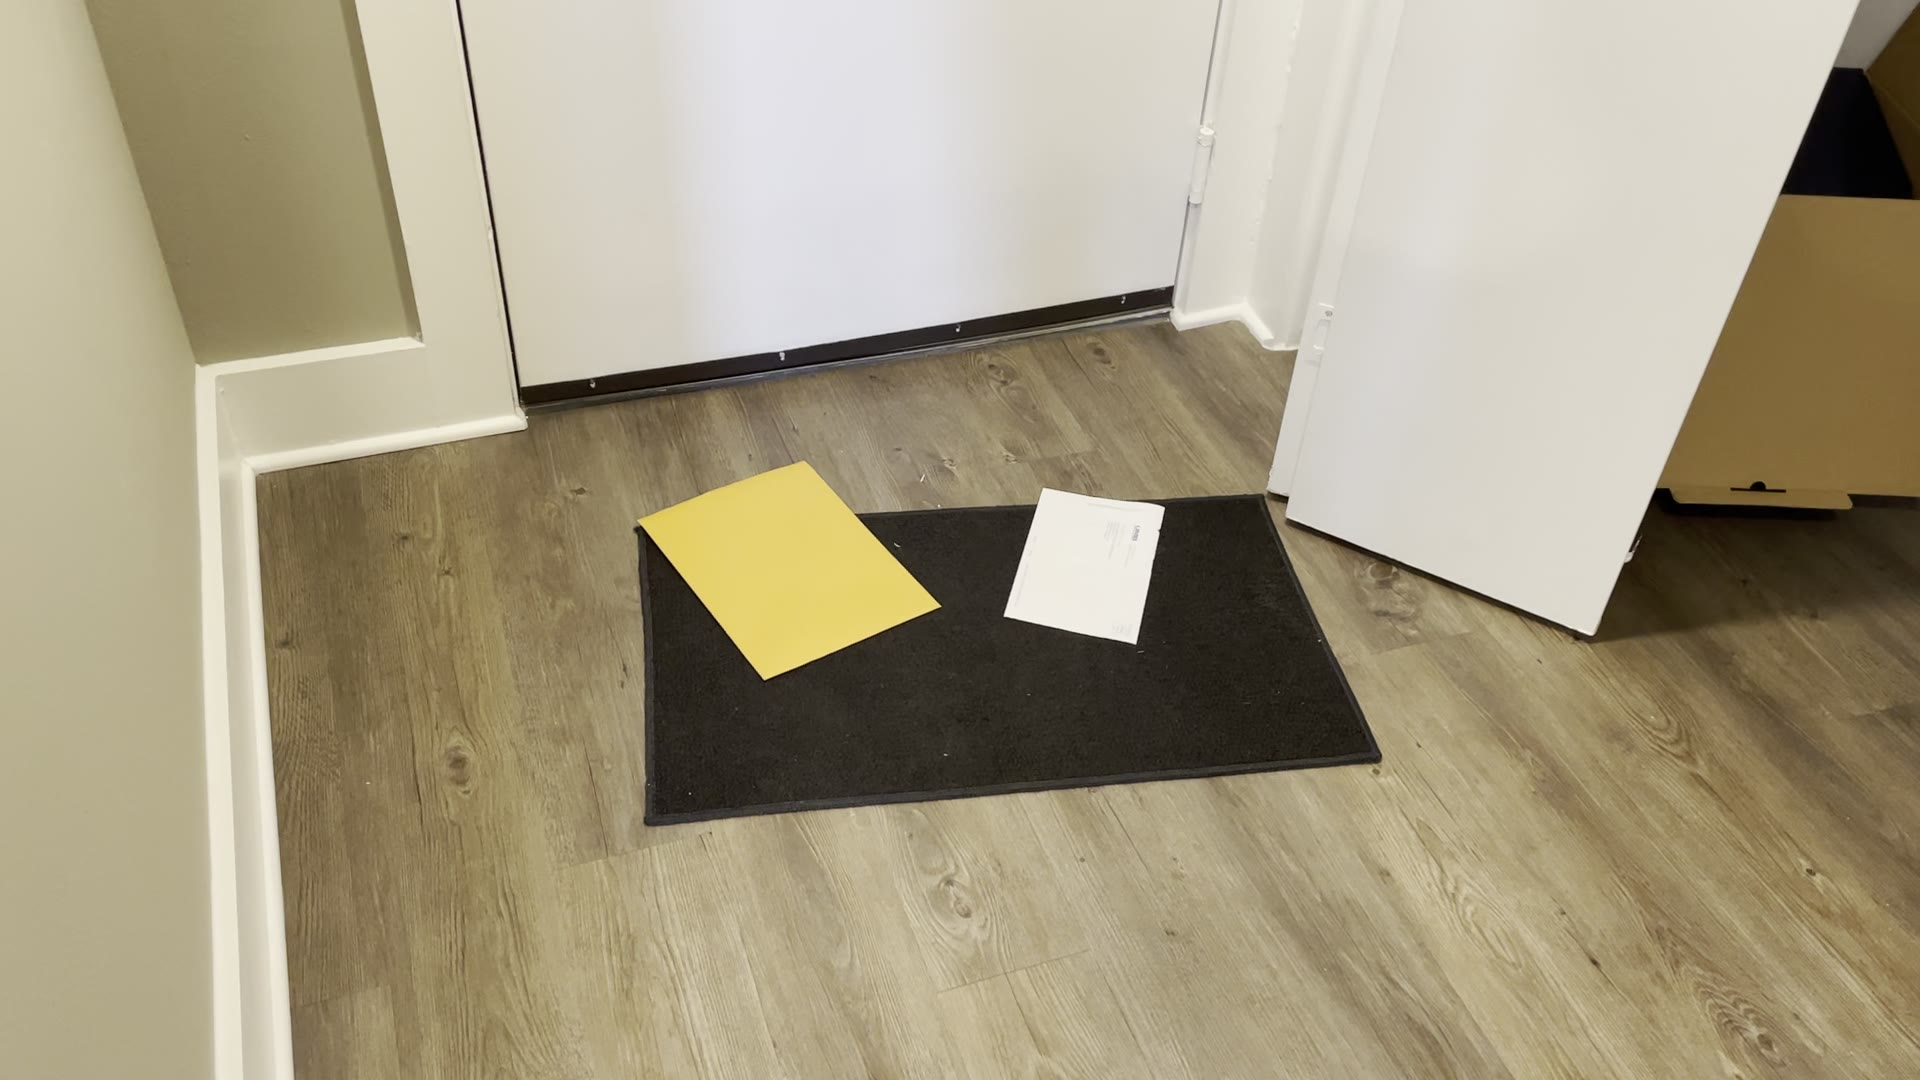envelope: (632, 458, 938, 683), (997, 483, 1168, 649)
